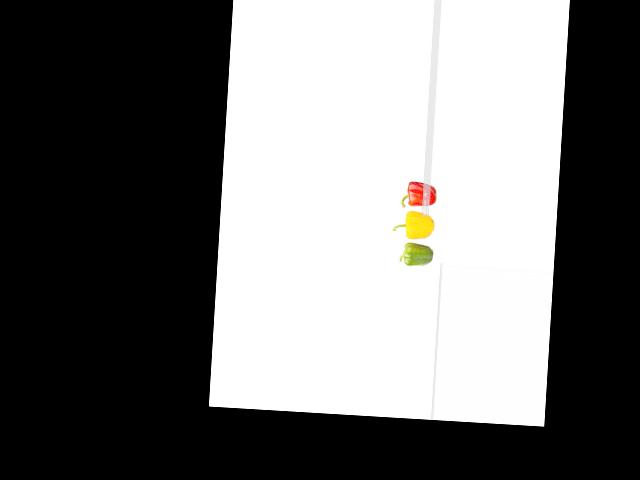bell_pepper: (394, 242, 436, 270)
